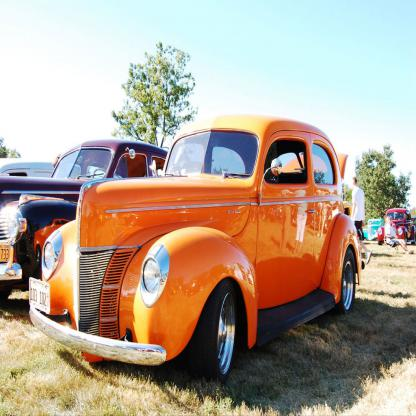Car: (29, 114, 365, 386), (0, 140, 168, 304), (0, 158, 80, 178), (378, 206, 415, 245), (364, 220, 384, 242)
